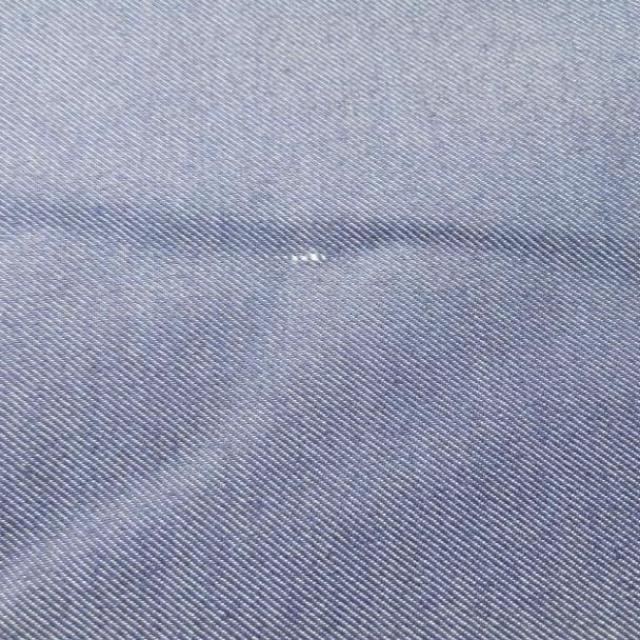Knot: (283, 251, 327, 265)
